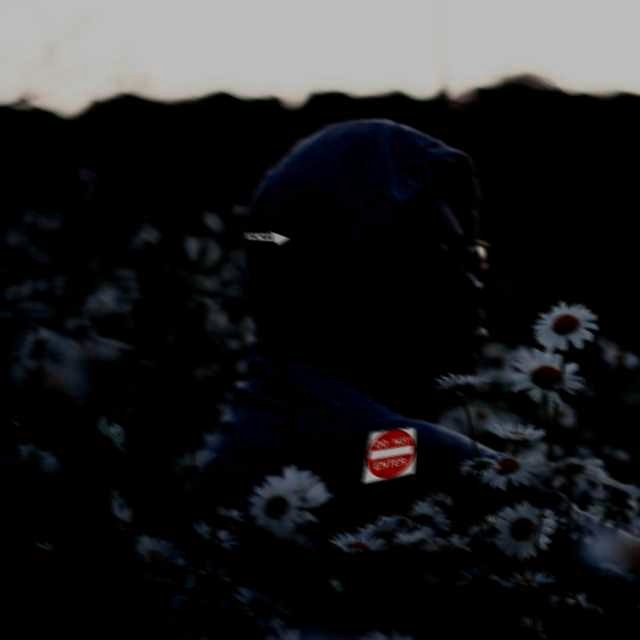DO_NOT_ENTER: (360, 425, 414, 483)
ONE_WAY_ right: (242, 229, 300, 247)
